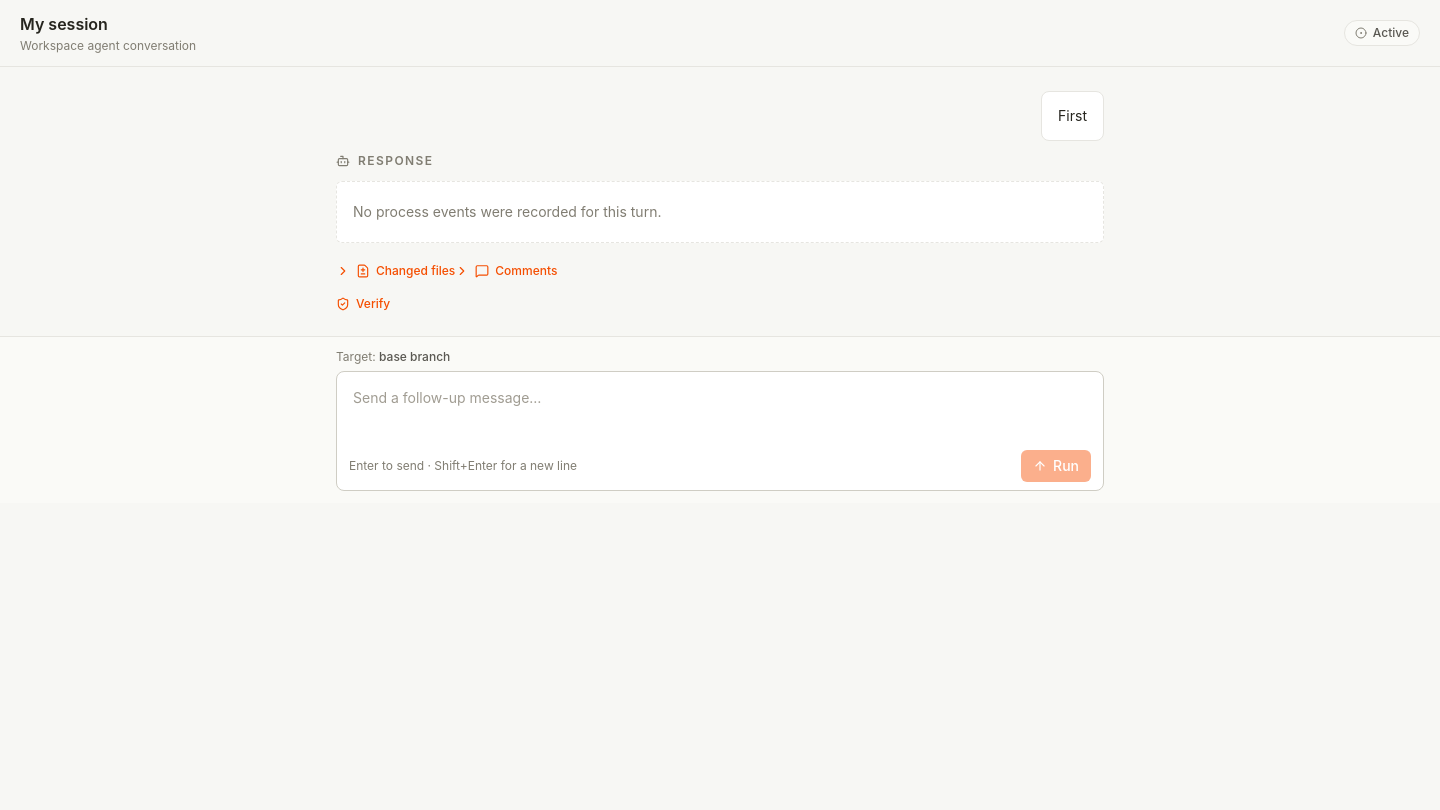
Test case: SessionThread verification › shows the server's detail when verification cannot start
What coordinates should you click on to do the following:
click the button "Verify"
I would click on:
 (363, 304)
Its box is [336,296,390,312].
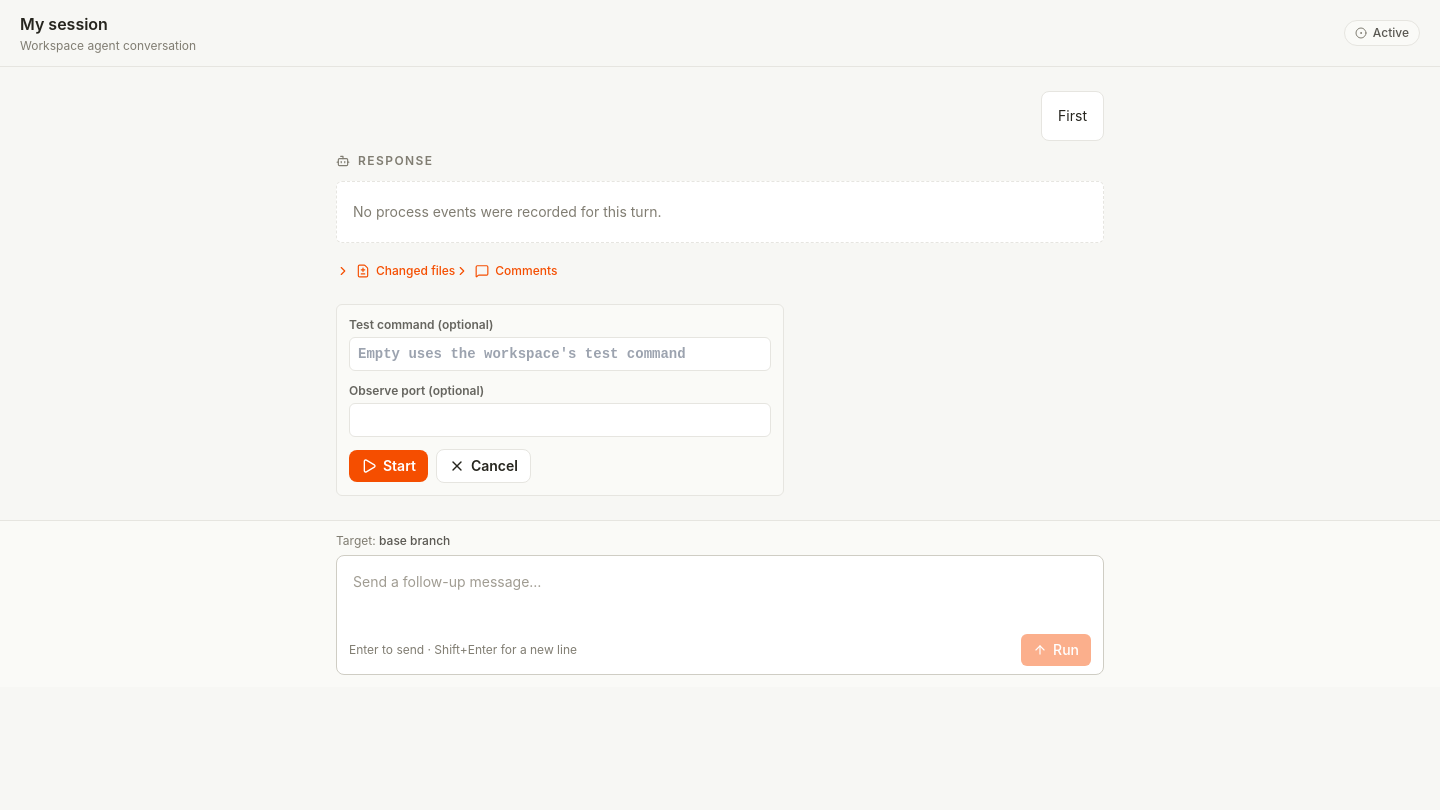
What coordinates should you click on to do the following:
click the button "Start"
I would click on:
 (388, 466)
Its box is [349,450,428,482].
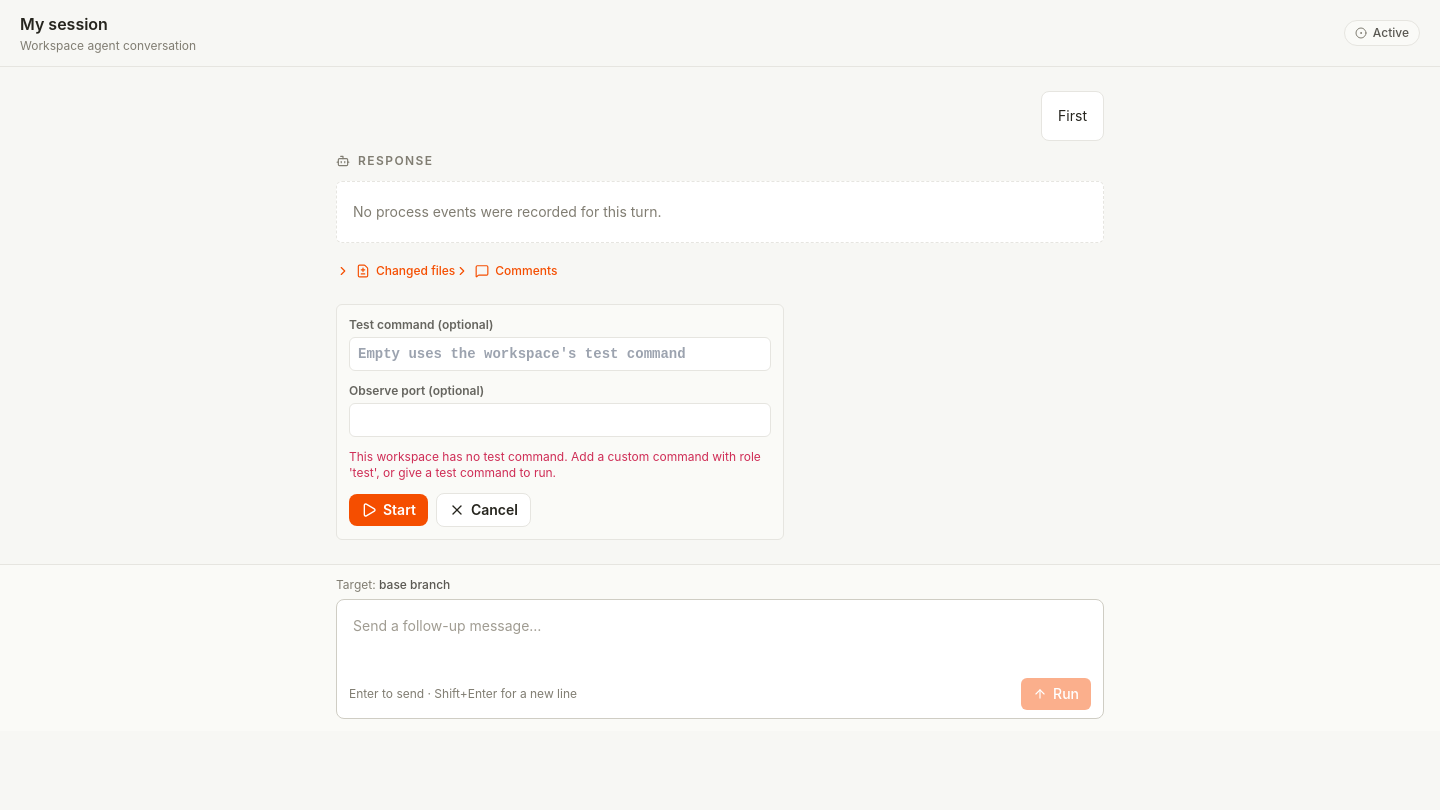
Result: the button "Start" is shown at [349,494,428,526]
Result: the text "This workspace has no test command. Add a custom command with role 'test', or give a test command to run." is shown at [349,449,761,480]
